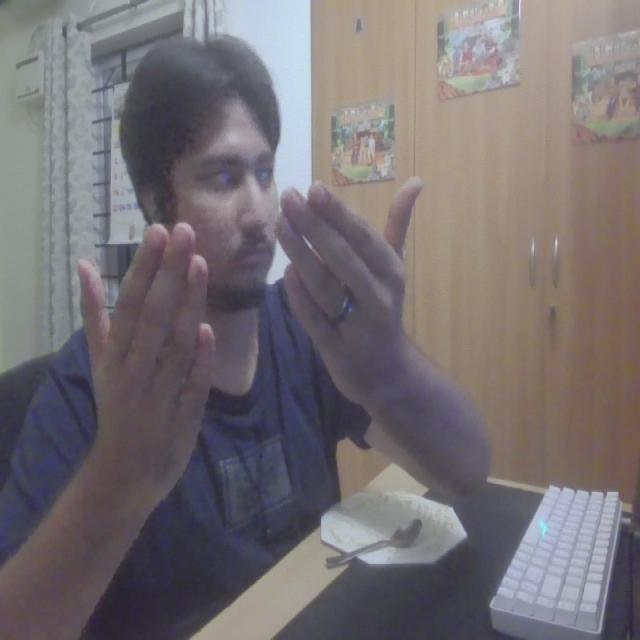thankyou: (61, 174, 424, 502)
